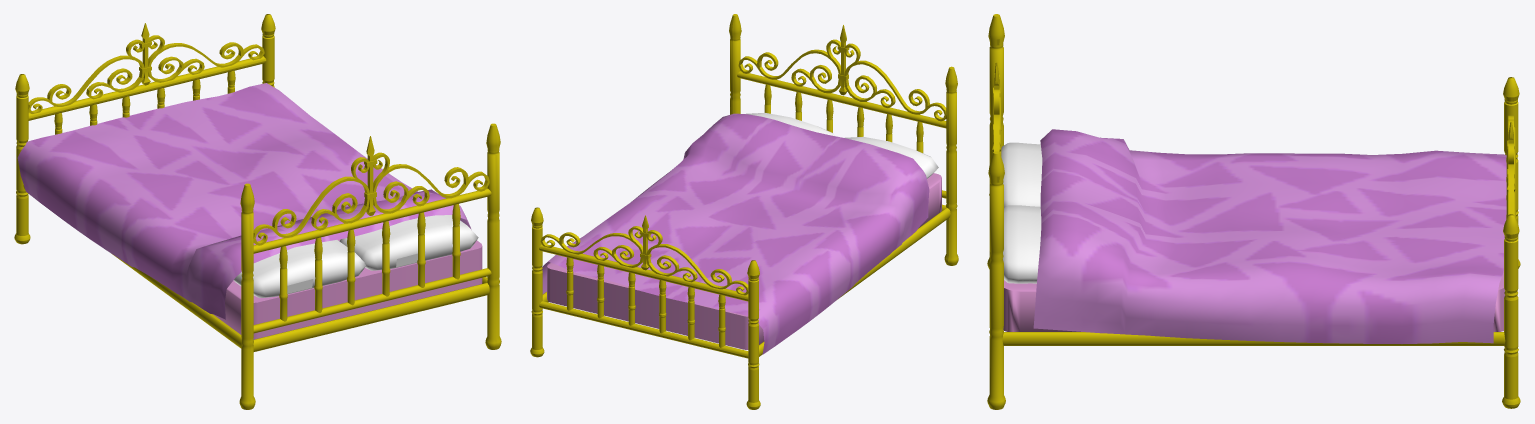
The model's file is camaCandace.obj.
3 renders of one model, left to right at view 1: azimuth 30°, elevation 25°; view 2: azimuth 150°, elevation 25°; view 3: azimuth 270°, elevation 25°, orthographic. The views are drawn at different scales.
Parts seen in each view (by area): view 1: camaCandace:Mesh1; view 2: camaCandace:Mesh1; view 3: camaCandace:Mesh1.
Boxes of the visible parts, <box> form: camaCandace:Mesh1: <box>14,14,501,409</box>; camaCandace:Mesh1: <box>530,14,958,409</box>; camaCandace:Mesh1: <box>987,14,1520,409</box>.
Bounding box in the file's own units: 0.8472 × 0.7482 × 1.31.
4 materials, 4 textured.
